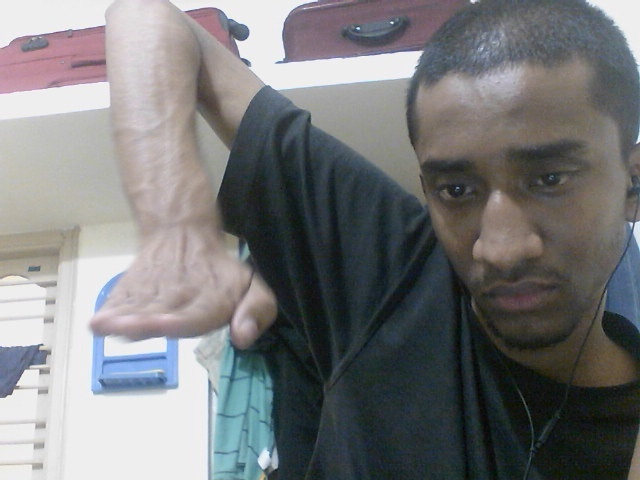hand: (83, 239, 281, 353)
